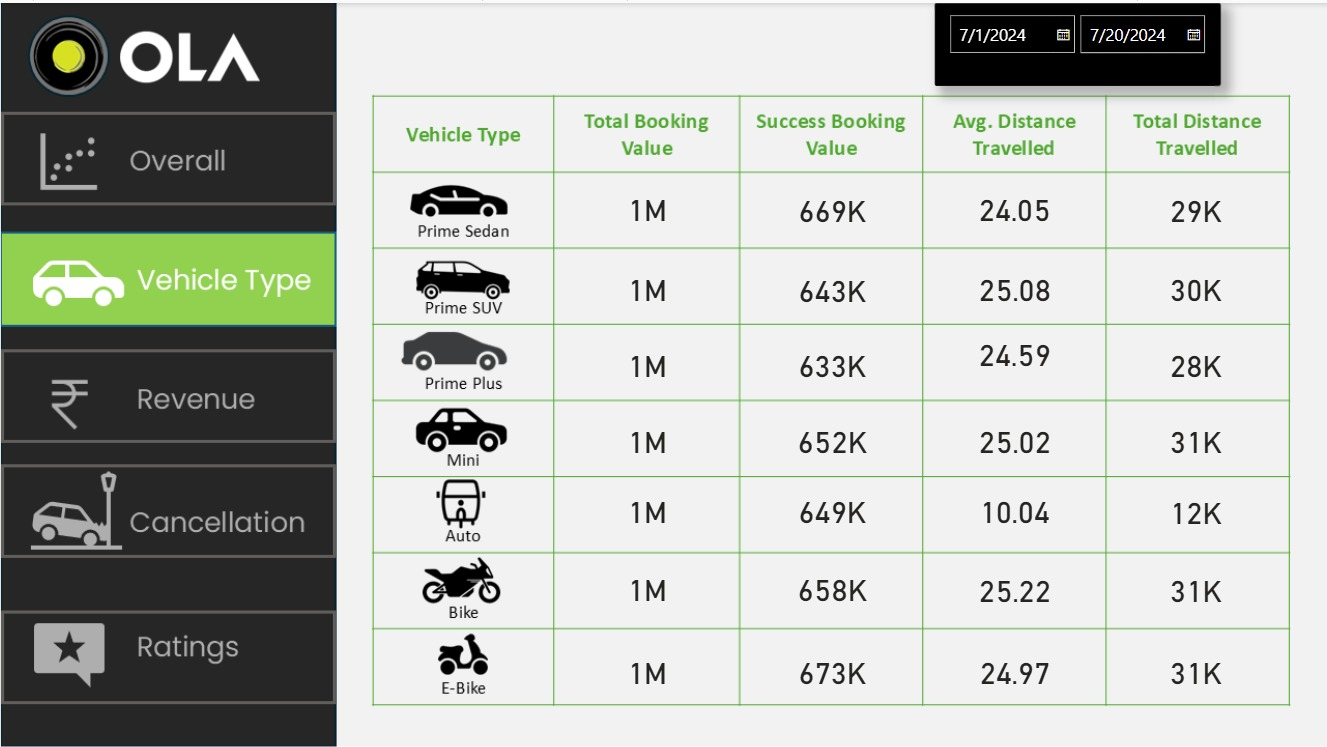

Layout of this report page (visuals, bound fields, positions):
{"tool":"powerbi","page":{"name":"Vehicle_Type","canvas":[1280,720],"ordinal":1},"visuals":[{"type":"actionButton","box":[0,334.2,323.3,90.5],"z":0},{"type":"actionButton","box":[0,445.2,323.3,90.5],"z":1000},{"type":"actionButton","box":[0,586.3,323.3,90.5],"z":2000},{"type":"actionButton","box":[0,105,323.3,90.5],"z":3000},{"type":"card","fields":{"Values":["Sum(July.Booking_Value)"]},"box":[546.2,167.5,155,61.2],"z":4000},{"type":"card","fields":{"Values":["Sum(July.Booking_Value)"]},"box":[546.2,245,155,61.2],"z":5000},{"type":"card","fields":{"Values":["Sum(July.Booking_Value)"]},"box":[546.2,318.8,155,61.2],"z":6000},{"type":"card","fields":{"Values":["Sum(July.Booking_Value)"]},"box":[546.2,392.5,155,61.2],"z":7000},{"type":"card","fields":{"Values":["Sum(July.Booking_Value)"]},"box":[546.2,460,155,61.2],"z":8000},{"type":"card","fields":{"Values":["Sum(July.Booking_Value)"]},"box":[546.2,535,155,61.2],"z":9000},{"type":"card","fields":{"Values":["Sum(July.Booking_Value)"]},"box":[546.2,615,155,61.2],"z":10000},{"type":"card","fields":{"Values":["Sum(July.Booking_Value)"]},"box":[725,168.8,155,61.2],"z":11000},{"type":"card","fields":{"Values":["Sum(July.Booking_Value)"]},"box":[725,246.2,155,61.2],"z":12000},{"type":"card","fields":{"Values":["Sum(July.Booking_Value)"]},"box":[725,318.8,155,61.2],"z":13000},{"type":"card","fields":{"Values":["Sum(July.Booking_Value)"]},"box":[725,392.5,155,61.2],"z":14000},{"type":"card","fields":{"Values":["Sum(July.Booking_Value)"]},"box":[725,460,155,61.2],"z":15000},{"type":"card","fields":{"Values":["Sum(July.Booking_Value)"]},"box":[725,535,155,61.2],"z":16000},{"type":"card","fields":{"Values":["Sum(July.Booking_Value)"]},"box":[725,615,155,61.2],"z":17000},{"type":"card","fields":{"Values":["Avg(July.Ride_Distance)"]},"box":[901.2,167.5,155,61.2],"z":18000},{"type":"card","fields":{"Values":["Avg(July.Ride_Distance)"]},"box":[901.2,245,155,61.2],"z":19000},{"type":"card","fields":{"Values":["Avg(July.Ride_Distance)"]},"box":[901.2,307.5,155,61.2],"z":20000},{"type":"card","fields":{"Values":["Avg(July.Ride_Distance)"]},"box":[901.2,392.5,155,61.2],"z":21000},{"type":"card","fields":{"Values":["Avg(July.Ride_Distance)"]},"box":[901.2,460,155,61.2],"z":22000},{"type":"card","fields":{"Values":["Avg(July.Ride_Distance)"]},"box":[901.2,536.2,155,61.2],"z":23000},{"type":"card","fields":{"Values":["Avg(July.Ride_Distance)"]},"box":[901.2,615,155,61.2],"z":24000},{"type":"card","fields":{"Values":["Sum(July.Ride_Distance)"]},"box":[1076.2,168.8,155,61.2],"z":25000},{"type":"card","fields":{"Values":["Sum(July.Ride_Distance)"]},"box":[1076.2,245,155,61.2],"z":26000},{"type":"card","fields":{"Values":["Sum(July.Ride_Distance)"]},"box":[1076.2,318.8,155,61.2],"z":27000},{"type":"card","fields":{"Values":["Sum(July.Ride_Distance)"]},"box":[1076.2,392.5,155,61.2],"z":28000},{"type":"card","fields":{"Values":["Sum(July.Ride_Distance)"]},"box":[1076.2,461.2,155,61.2],"z":29000},{"type":"card","fields":{"Values":["Sum(July.Ride_Distance)"]},"box":[1076.2,536.2,155,61.2],"z":30000},{"type":"card","fields":{"Values":["Sum(July.Ride_Distance)"]},"box":[1076.2,615,155,61.2],"z":31000},{"type":"slicer","title":"Date","fields":{"Values":["July.Date"]},"box":[901.2,0,276.2,80],"z":32000}]}

Visuals, with their boxes on the page's 1280x720 design canvas (x1, y1, x2, y2). These are canvas units, not pixel positions in the 1327x747 screenshot, which may show the page scaled, cropped or inside an application window:
actionButton: [left=0, top=334, right=323, bottom=425]
actionButton: [left=0, top=445, right=323, bottom=536]
actionButton: [left=0, top=586, right=323, bottom=677]
actionButton: [left=0, top=105, right=323, bottom=196]
card - Sum(July.Booking_Value): [left=546, top=168, right=701, bottom=229]
card - Sum(July.Booking_Value): [left=546, top=245, right=701, bottom=306]
card - Sum(July.Booking_Value): [left=546, top=319, right=701, bottom=380]
card - Sum(July.Booking_Value): [left=546, top=392, right=701, bottom=454]
card - Sum(July.Booking_Value): [left=546, top=460, right=701, bottom=521]
card - Sum(July.Booking_Value): [left=546, top=535, right=701, bottom=596]
card - Sum(July.Booking_Value): [left=546, top=615, right=701, bottom=676]
card - Sum(July.Booking_Value): [left=725, top=169, right=880, bottom=230]
card - Sum(July.Booking_Value): [left=725, top=246, right=880, bottom=307]
card - Sum(July.Booking_Value): [left=725, top=319, right=880, bottom=380]
card - Sum(July.Booking_Value): [left=725, top=392, right=880, bottom=454]
card - Sum(July.Booking_Value): [left=725, top=460, right=880, bottom=521]
card - Sum(July.Booking_Value): [left=725, top=535, right=880, bottom=596]
card - Sum(July.Booking_Value): [left=725, top=615, right=880, bottom=676]
card - Avg(July.Ride_Distance): [left=901, top=168, right=1056, bottom=229]
card - Avg(July.Ride_Distance): [left=901, top=245, right=1056, bottom=306]
card - Avg(July.Ride_Distance): [left=901, top=308, right=1056, bottom=369]
card - Avg(July.Ride_Distance): [left=901, top=392, right=1056, bottom=454]
card - Avg(July.Ride_Distance): [left=901, top=460, right=1056, bottom=521]
card - Avg(July.Ride_Distance): [left=901, top=536, right=1056, bottom=597]
card - Avg(July.Ride_Distance): [left=901, top=615, right=1056, bottom=676]
card - Sum(July.Ride_Distance): [left=1076, top=169, right=1231, bottom=230]
card - Sum(July.Ride_Distance): [left=1076, top=245, right=1231, bottom=306]
card - Sum(July.Ride_Distance): [left=1076, top=319, right=1231, bottom=380]
card - Sum(July.Ride_Distance): [left=1076, top=392, right=1231, bottom=454]
card - Sum(July.Ride_Distance): [left=1076, top=461, right=1231, bottom=522]
card - Sum(July.Ride_Distance): [left=1076, top=536, right=1231, bottom=597]
card - Sum(July.Ride_Distance): [left=1076, top=615, right=1231, bottom=676]
"Date" slicer: [left=901, top=0, right=1177, bottom=80]
